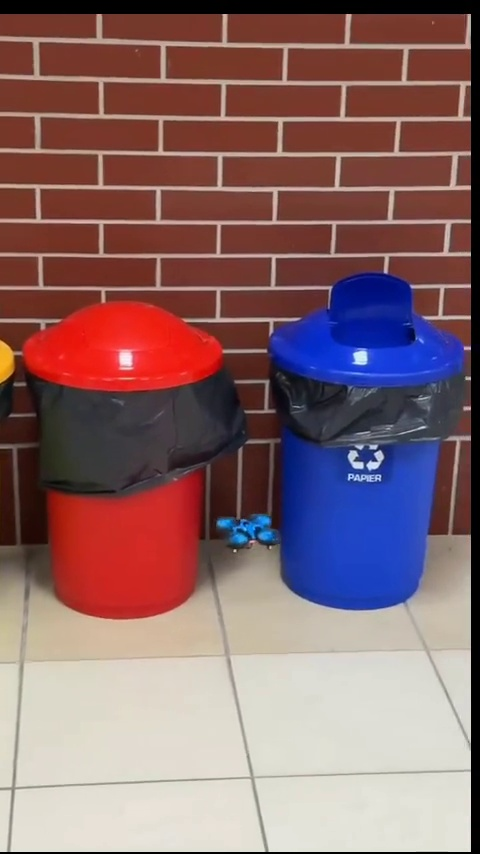drone: (214, 515, 283, 559)
